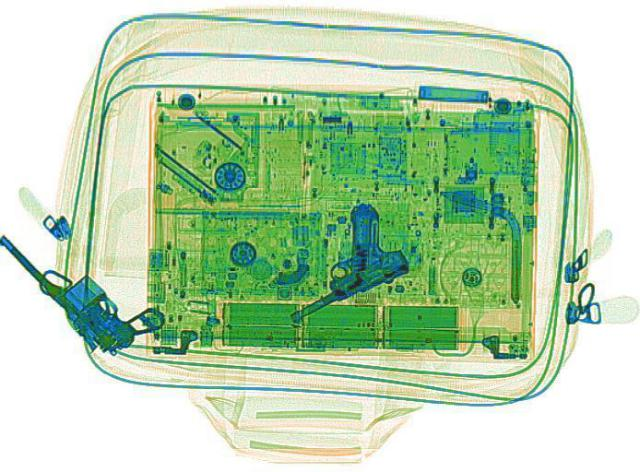Gun: (230, 198, 430, 322), (0, 217, 169, 356)
